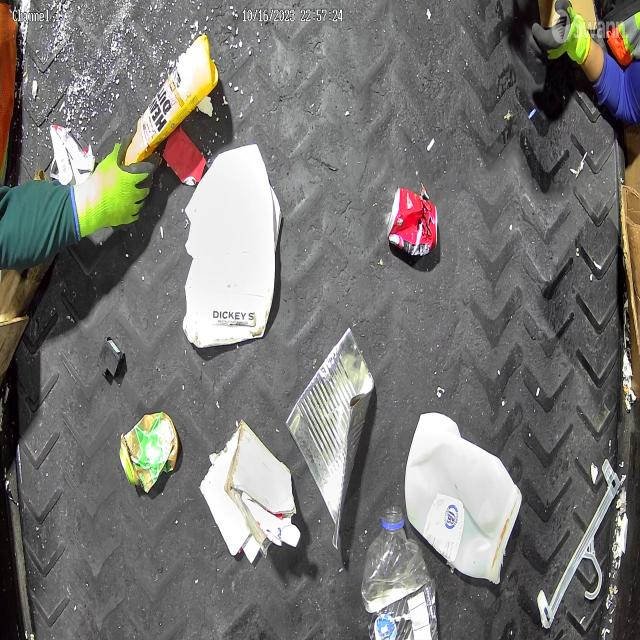can: (386, 187, 438, 257)
milk_jug: (404, 412, 523, 586)
non_white_jug: (124, 33, 218, 165)
plastic_bottle: (361, 505, 439, 640)
